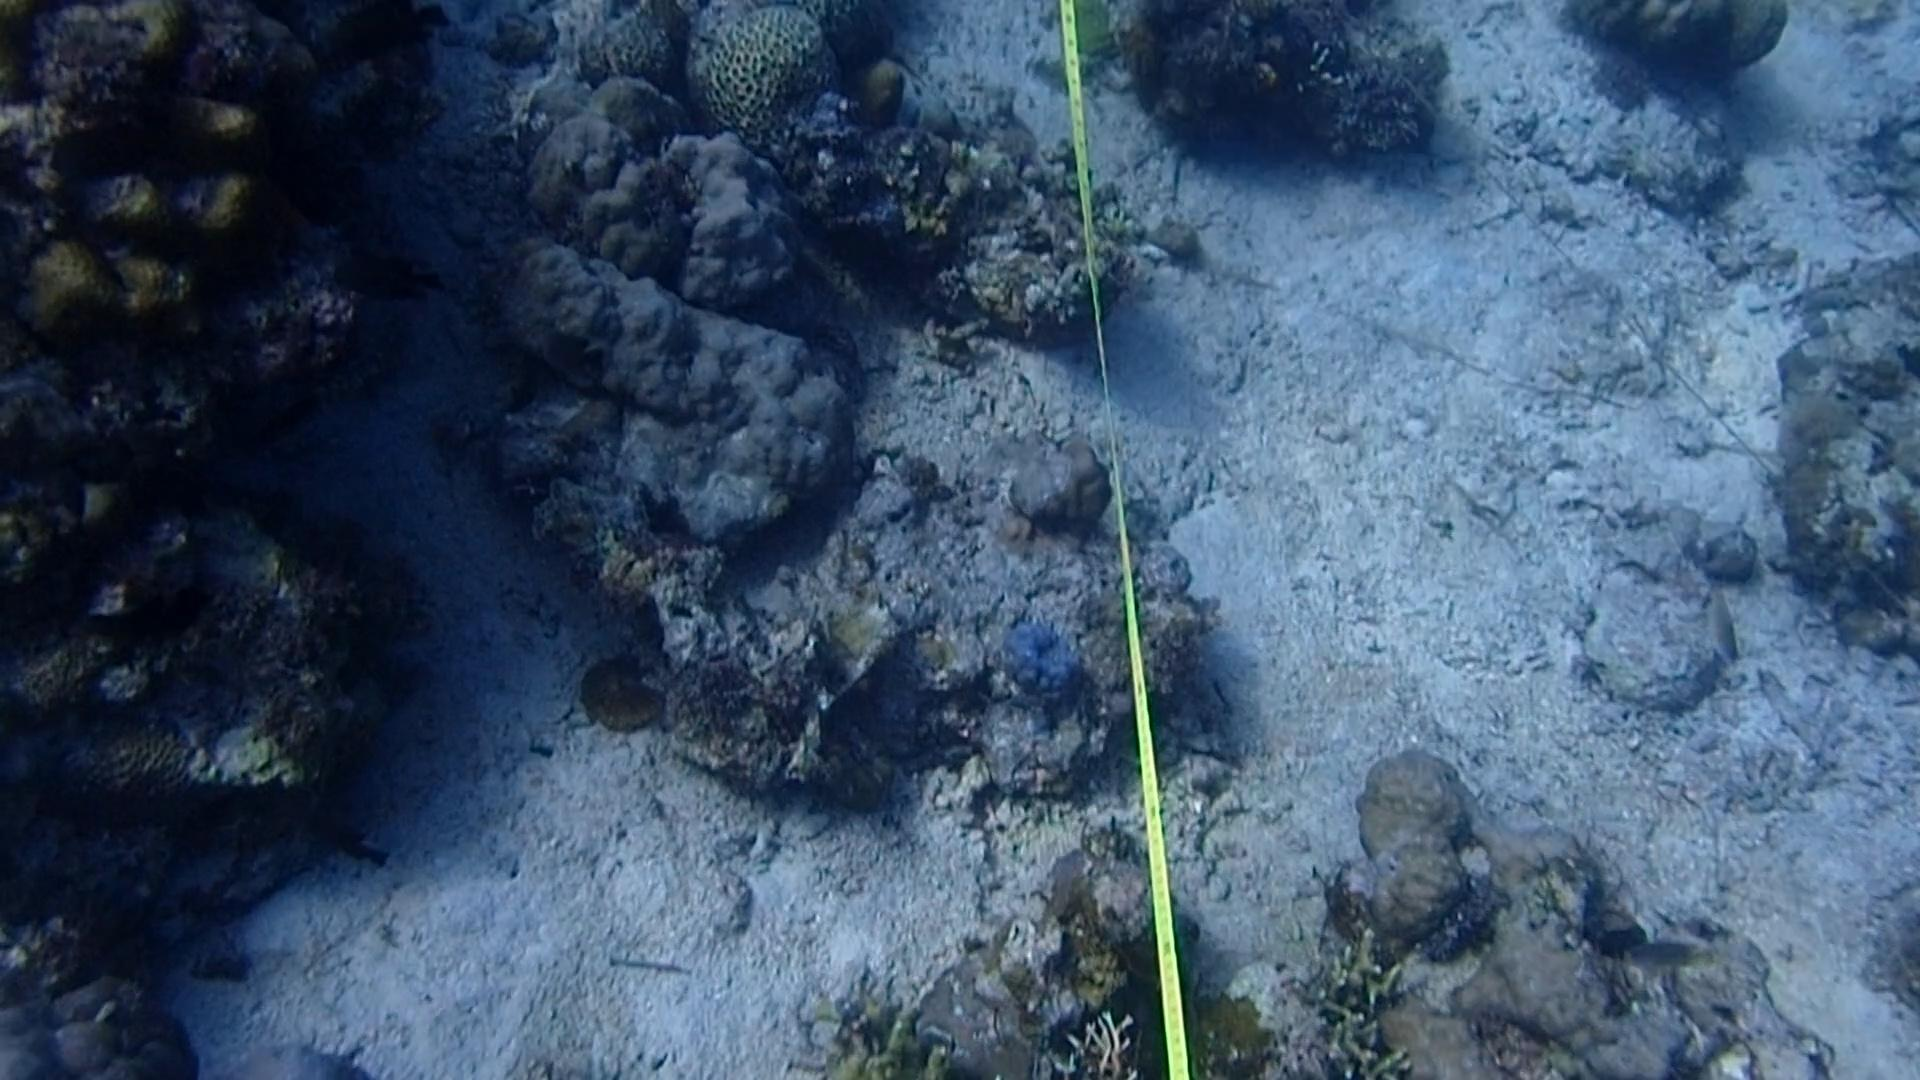Dark Fish: (331, 237, 467, 319), (320, 5, 462, 80), (86, 593, 228, 666), (298, 806, 410, 897), (516, 301, 605, 404), (55, 105, 173, 178)
Light Fish: (1696, 575, 1746, 670)
